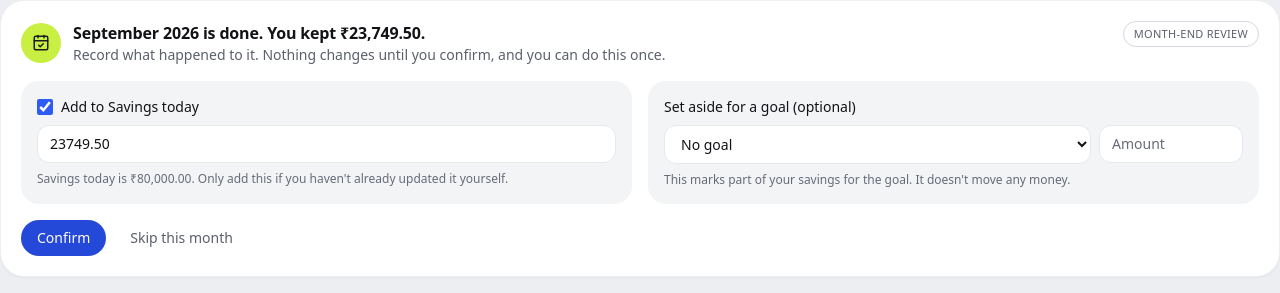
MonthReviewCard › rejects an amount that is not a positive number before sending anything
The width and height of the screenshot is (1280, 293).
Replace the text in the field named "Amount to add to Savings today (₹)" with "0" at (326, 144), box [37, 125, 616, 163]
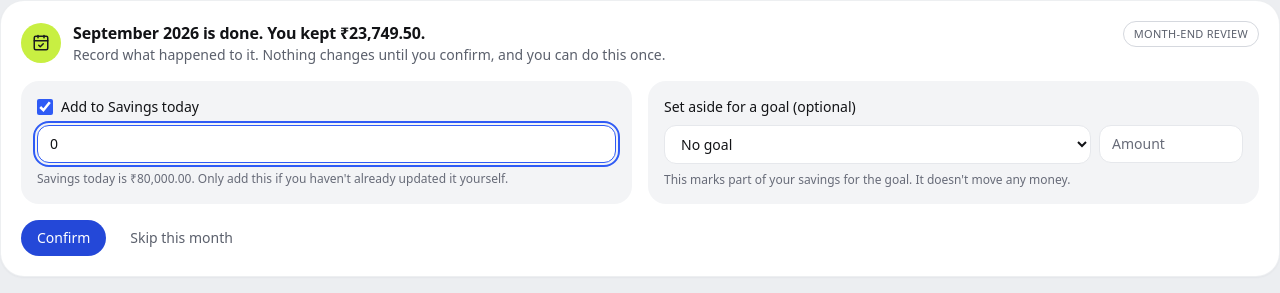
Click the button "Confirm" at (64, 238), box [21, 220, 106, 256]
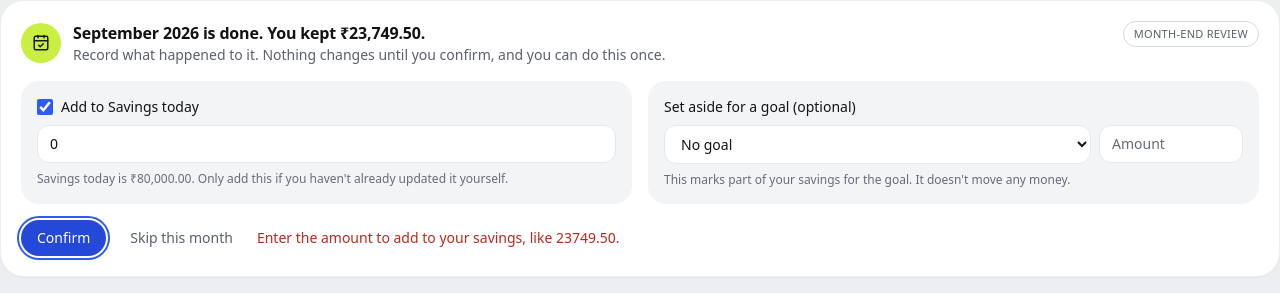
expect the message shows "Enter the amount to add to your savings": met, box [257, 228, 620, 247]
